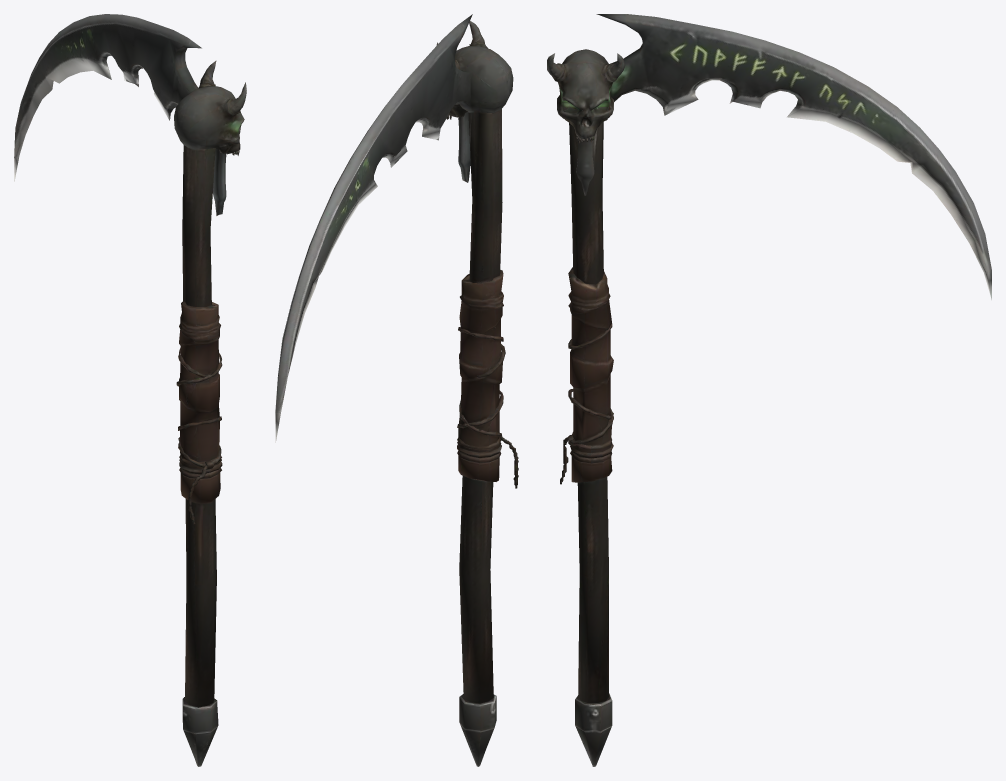
Rendered from gear_reaper_scythe.glb.
3 views of the same model, side by side, from view 1: azimuth 30°, elevation 25°; view 2: azimuth 150°, elevation 25°; view 3: azimuth 270°, elevation 25° (orthographic). The views are drawn at different scales.
Visible parts, largest first — view 1: tripo_node_2e3a74f8-ce5f-48ca-b56f-5c4ba961a534; view 2: tripo_node_2e3a74f8-ce5f-48ca-b56f-5c4ba961a534; view 3: tripo_node_2e3a74f8-ce5f-48ca-b56f-5c4ba961a534.
Boxes of the visible parts, box(x1,y1,x2,y2) form: tripo_node_2e3a74f8-ce5f-48ca-b56f-5c4ba961a534: box(14, 14, 246, 766); tripo_node_2e3a74f8-ce5f-48ca-b56f-5c4ba961a534: box(275, 14, 518, 766); tripo_node_2e3a74f8-ce5f-48ca-b56f-5c4ba961a534: box(547, 14, 991, 766).
Size of the model in its own units: 0.0917 by 0.998 by 0.5332.
Materials: 1 (1 with a texture image).
